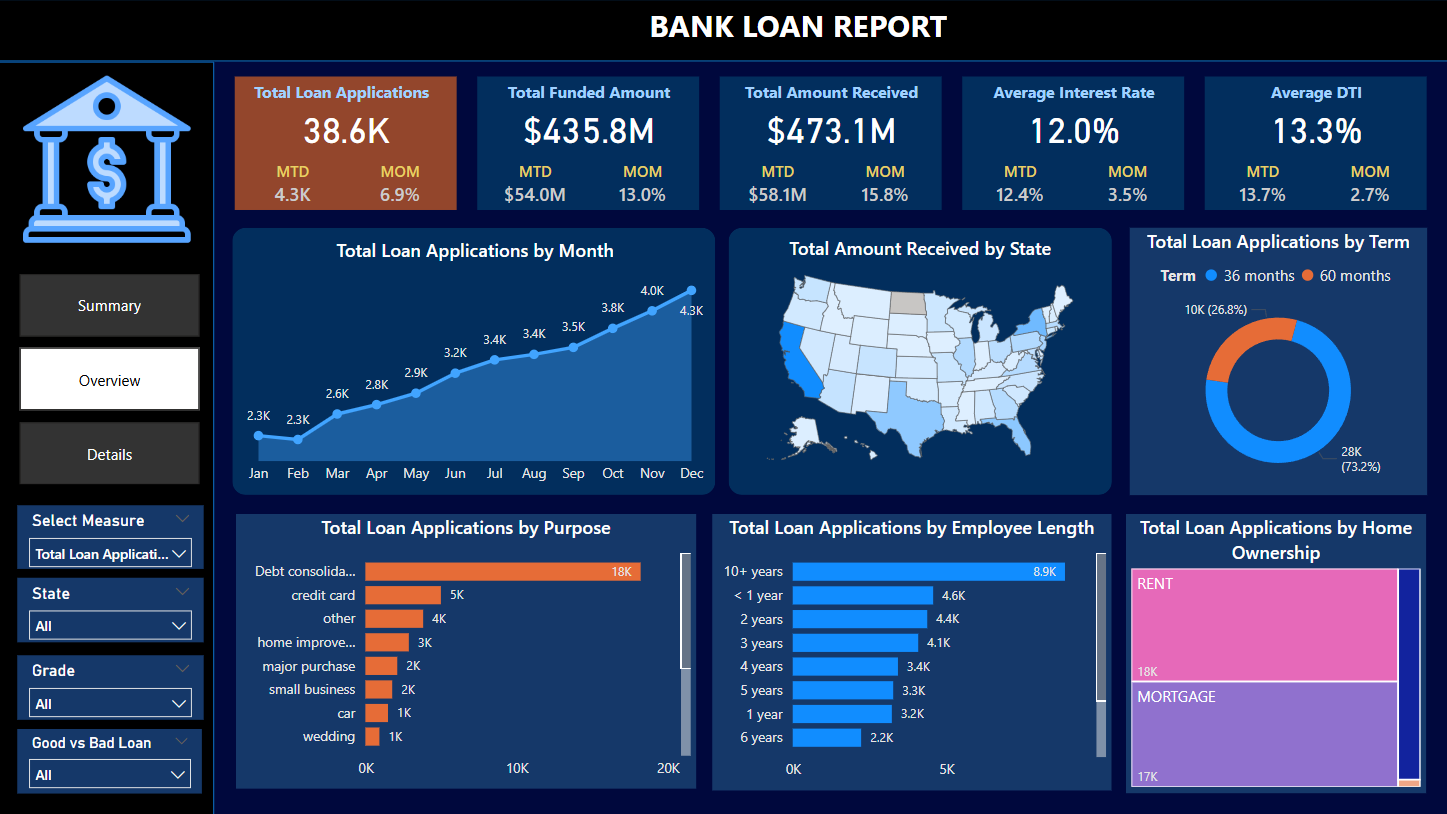

The dashboard page shown, as its layout file describes it:
{"tool":"powerbi","page":{"name":"Overview","canvas":[1280,720],"ordinal":1},"visuals":[{"type":"shape","box":[0,0,1280,55],"z":0},{"type":"shape","box":[210.1,67.4,195.3,117.4],"z":0,"group":"g1"},{"type":"shape","box":[423.3,67.4,195.3,117.4],"z":0,"group":"g3"},{"type":"shape","box":[636.5,67.4,195.3,117.4],"z":0,"group":"g2"},{"type":"shape","box":[849.7,67.4,195.3,117.4],"z":0,"group":"g4"},{"type":"shape","box":[1063,67.4,195.3,117.4],"z":0,"group":"g5"},{"type":"shape","box":[0,54.6,192,665],"z":1000},{"type":"card","fields":{"Values":["financial_loan.Total Loan Applications"]},"box":[210.9,84.9,194.8,57],"z":1000,"group":"g1"},{"type":"card","fields":{"Values":["financial_loan.Total Funded Amount"]},"box":[424.1,84.9,194.8,57],"z":1000,"group":"g3"},{"type":"card","fields":{"Values":["financial_loan.Total Amount Received"]},"box":[637.3,84.9,194.8,57],"z":1000,"group":"g2"},{"type":"card","fields":{"Values":["financial_loan.Avg Int Rate"]},"box":[850.5,84.9,194.8,57],"z":1000,"group":"g4"},{"type":"card","fields":{"Values":["financial_loan.Avg DTI"]},"box":[1063.8,84.9,194.8,57],"z":1000,"group":"g5"},{"type":"textbox","box":[569.3,0,282.8,49.1],"z":2000},{"type":"textbox","box":[222.1,66.8,172.5,33.4],"z":2000,"group":"g1"},{"type":"textbox","box":[435.3,66.8,172.5,33.4],"z":2000,"group":"g3"},{"type":"textbox","box":[648.5,66.8,172.5,33.4],"z":2000,"group":"g2"},{"type":"textbox","box":[861.7,66.8,172.5,33.4],"z":2000,"group":"g4"},{"type":"textbox","box":[1075,66.8,172.5,33.4],"z":2000,"group":"g5"},{"type":"group","id":"g1","title":"Group 1","box":[210.1,66.8,196.2,122.4],"z":3000},{"type":"card","title":"MTD","fields":{"Values":["financial_loan.MTD Loan Applications"]},"box":[222.1,141.9,77.9,47.3],"z":3000,"group":"g1"},{"type":"card","title":"MTD","fields":{"Values":["financial_loan.MTD Funded Amount"]},"box":[435.3,141.9,77.9,47.3],"z":3000,"group":"g3"},{"type":"card","title":"MTD","fields":{"Values":["financial_loan.MTD Total Amount Received"]},"box":[648.5,141.9,77.9,47.3],"z":3000,"group":"g2"},{"type":"card","title":"MTD","fields":{"Values":["financial_loan.MTD Avg Int Rate"]},"box":[861.7,141.9,77.9,47.3],"z":3000,"group":"g4"},{"type":"card","title":"MTD","fields":{"Values":["financial_loan.MTD Avg DTI"]},"box":[1075,141.9,77.9,47.3],"z":3000,"group":"g5"},{"type":"group","id":"g2","title":"Group 1","box":[636.5,66.8,196.2,122.4],"z":4000},{"type":"card","title":"MOM","fields":{"Values":["financial_loan.MOM Loan Applications"]},"box":[316.7,141.9,77.9,47.3],"z":4000,"group":"g1"},{"type":"card","title":"MOM","fields":{"Values":["financial_loan.MOM Funded Amount"]},"box":[529.9,141.9,77.9,47.3],"z":4000,"group":"g3"},{"type":"card","title":"MOM","fields":{"Values":["financial_loan.MOM Total Amount Received"]},"box":[743.1,141.9,77.9,47.3],"z":4000,"group":"g2"},{"type":"card","title":"MOM","fields":{"Values":["financial_loan.MOM Avg Int Rate"]},"box":[956.3,141.9,77.9,47.3],"z":4000,"group":"g4"},{"type":"card","title":"MOM","fields":{"Values":["financial_loan.MOM Avg DTI"]},"box":[1169.6,141.9,77.9,47.3],"z":4000,"group":"g5"},{"type":"group","id":"g3","title":"Group 1","box":[423.3,66.8,196.2,122.4],"z":5000},{"type":"shape","box":[208.1,201.2,425,235],"z":5000,"group":"g7"},{"type":"shape","box":[644.2,201.2,337.2,235],"z":5000,"group":"g6"},{"type":"group","id":"g4","title":"Group 1","box":[849.7,66.8,196.2,122.4],"z":6000},{"type":"group","id":"g5","title":"Group 1","box":[1063,66.8,196.2,122.4],"z":7000},{"type":"group","id":"g6","title":"Group 2","box":[644.2,201.2,337.2,234.9],"z":8000},{"type":"slicer","fields":{"Values":["financial_loan.address_state"]},"box":[18.6,509.3,164,57],"z":9000},{"type":"slicer","fields":{"Values":["financial_loan.grade"]},"box":[18.6,576.7,164,57],"z":10000},{"type":"slicer","fields":{"Values":["financial_loan.Good vs Bad Loan"]},"box":[18.6,641.9,162.8,57],"z":11000},{"type":"group","id":"g7","title":"Group 2","box":[208.1,201.2,425,235],"z":11500,"group":"g8"},{"type":"areaChart","fields":{"Y":["financial_loan.Total Loan Applications"],"Category":["Date Table.Month"]},"box":[212.1,209.3,418.6,226.7],"z":12000,"group":"g8"},{"type":"slicer","fields":{"Values":["Select Measure.Select Measure"]},"box":[18.6,445.4,164,55.8],"z":12000},{"type":"group","id":"g8","title":"Group 3","box":[208.1,201.2,424.4,234.9],"z":13000},{"type":"donutChart","fields":{"Y":["financial_loan.Total Loan Applications"],"Category":["financial_loan.term"]},"box":[997.7,201.2,261.6,234.9],"z":14000},{"type":"shapeMap","title":"Total Amount Received by State","fields":{"Value":["financial_loan.Total Loan Applications"],"Category":["financial_loan.address_state"]},"box":[655.3,207.3,315.5,211.6],"z":14002,"group":"g6"},{"type":"barChart","fields":{"Y":["financial_loan.Total Loan Applications"],"Category":["financial_loan.emp_length"]},"box":[630.2,453.5,351.2,243],"z":15000},{"type":"barChart","fields":{"Y":["financial_loan.Total Loan Applications"],"Category":["financial_loan.purpose"]},"box":[211.6,453.5,404.7,241.9],"z":16000},{"type":"treemap","fields":{"Values":["financial_loan.Total Loan Applications"],"Group":["financial_loan.home_ownership"]},"box":[994.2,453.5,264,245.3],"z":17000},{"type":"pageNavigator","box":[20.9,241.9,158.1,187.2],"z":18000},{"type":"image","box":[14,47.7,166.3,187.2],"z":19000}]}

Visuals, with their boxes in screenshot pixels (x1, y1, x2, y2), scaled from the page's 1280x720 canvas onto the 1447x814 screenshot:
shape: (left=0, top=0, right=1446, bottom=62)
shape: (left=238, top=76, right=458, bottom=209)
shape: (left=479, top=76, right=699, bottom=209)
shape: (left=720, top=76, right=940, bottom=209)
shape: (left=961, top=76, right=1181, bottom=209)
shape: (left=1202, top=76, right=1422, bottom=209)
shape: (left=0, top=62, right=217, bottom=813)
card - financial_loan.Total Loan Applications: (left=238, top=96, right=459, bottom=160)
card - financial_loan.Total Funded Amount: (left=479, top=96, right=700, bottom=160)
card - financial_loan.Total Amount Received: (left=720, top=96, right=941, bottom=160)
card - financial_loan.Avg Int Rate: (left=961, top=96, right=1182, bottom=160)
card - financial_loan.Avg DTI: (left=1203, top=96, right=1423, bottom=160)
textbox: (left=644, top=0, right=963, bottom=56)
textbox: (left=251, top=76, right=446, bottom=113)
textbox: (left=492, top=76, right=687, bottom=113)
textbox: (left=733, top=76, right=928, bottom=113)
textbox: (left=974, top=76, right=1169, bottom=113)
textbox: (left=1215, top=76, right=1410, bottom=113)
"Group 1" group: (left=238, top=76, right=459, bottom=214)
"MTD" card: (left=251, top=160, right=339, bottom=214)
"MTD" card: (left=492, top=160, right=580, bottom=214)
"MTD" card: (left=733, top=160, right=821, bottom=214)
"MTD" card: (left=974, top=160, right=1062, bottom=214)
"MTD" card: (left=1215, top=160, right=1303, bottom=214)
"Group 1" group: (left=720, top=76, right=941, bottom=214)
"MOM" card: (left=358, top=160, right=446, bottom=214)
"MOM" card: (left=599, top=160, right=687, bottom=214)
"MOM" card: (left=840, top=160, right=928, bottom=214)
"MOM" card: (left=1081, top=160, right=1169, bottom=214)
"MOM" card: (left=1322, top=160, right=1410, bottom=214)
"Group 1" group: (left=479, top=76, right=700, bottom=214)
shape: (left=235, top=227, right=716, bottom=493)
shape: (left=728, top=227, right=1109, bottom=493)
"Group 1" group: (left=961, top=76, right=1182, bottom=214)
"Group 1" group: (left=1202, top=76, right=1423, bottom=214)
"Group 2" group: (left=728, top=227, right=1109, bottom=493)
slicer - financial_loan.address_state: (left=21, top=576, right=206, bottom=640)
slicer - financial_loan.grade: (left=21, top=652, right=206, bottom=716)
slicer - financial_loan.Good vs Bad Loan: (left=21, top=726, right=205, bottom=790)
"Group 2" group: (left=235, top=227, right=716, bottom=493)
areaChart - financial_loan.Total Loan Applications x Date Table.Month: (left=240, top=237, right=713, bottom=493)
slicer - Select Measure.Select Measure: (left=21, top=504, right=206, bottom=567)
"Group 3" group: (left=235, top=227, right=715, bottom=493)
donutChart - financial_loan.Total Loan Applications x financial_loan.term: (left=1128, top=227, right=1424, bottom=493)
"Total Amount Received by State" shapeMap: (left=741, top=234, right=1097, bottom=474)
barChart - financial_loan.Total Loan Applications x financial_loan.emp_length: (left=712, top=513, right=1109, bottom=787)
barChart - financial_loan.Total Loan Applications x financial_loan.purpose: (left=239, top=513, right=697, bottom=786)
treemap - financial_loan.Total Loan Applications x financial_loan.home_ownership: (left=1124, top=513, right=1422, bottom=790)
pageNavigator: (left=24, top=273, right=202, bottom=485)
image: (left=16, top=54, right=204, bottom=266)
